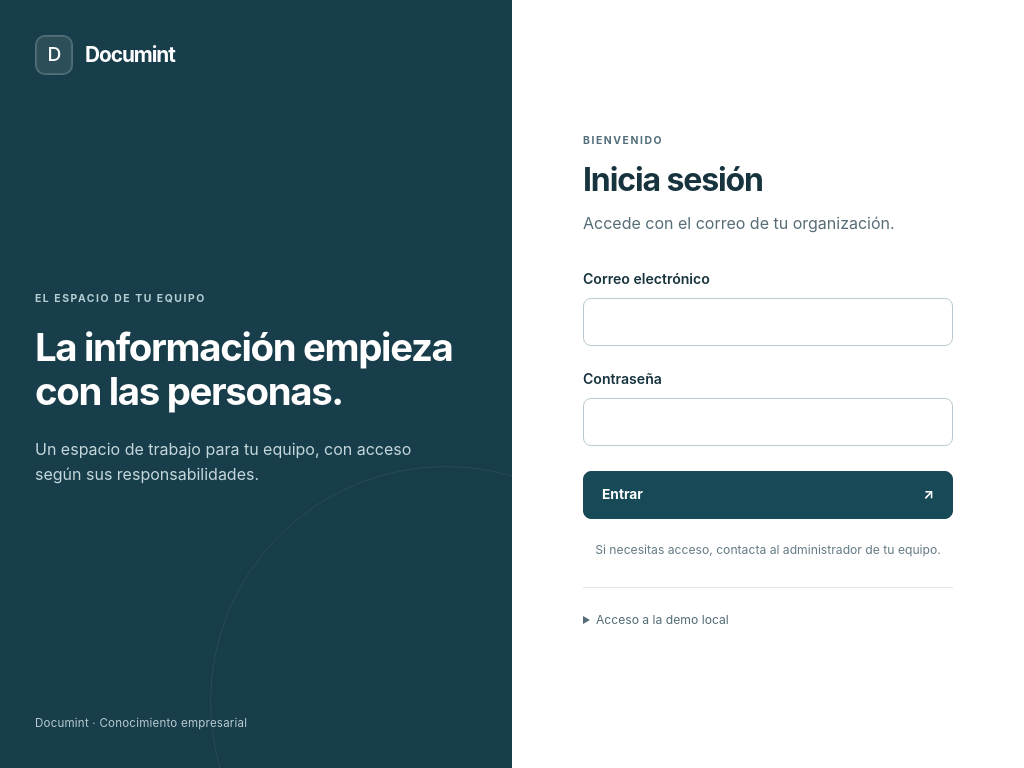
Scenario: redirects a protected route to login, submits credentials and denies an employee's admin route
Check: the heading "Inicia sesión" is shown, box [583, 160, 763, 199]
Type "elena@documind.example" into the field labelled "Correo electrónico".
click(768, 322); type("elena@documind.example")  # box [583, 298, 953, 346]
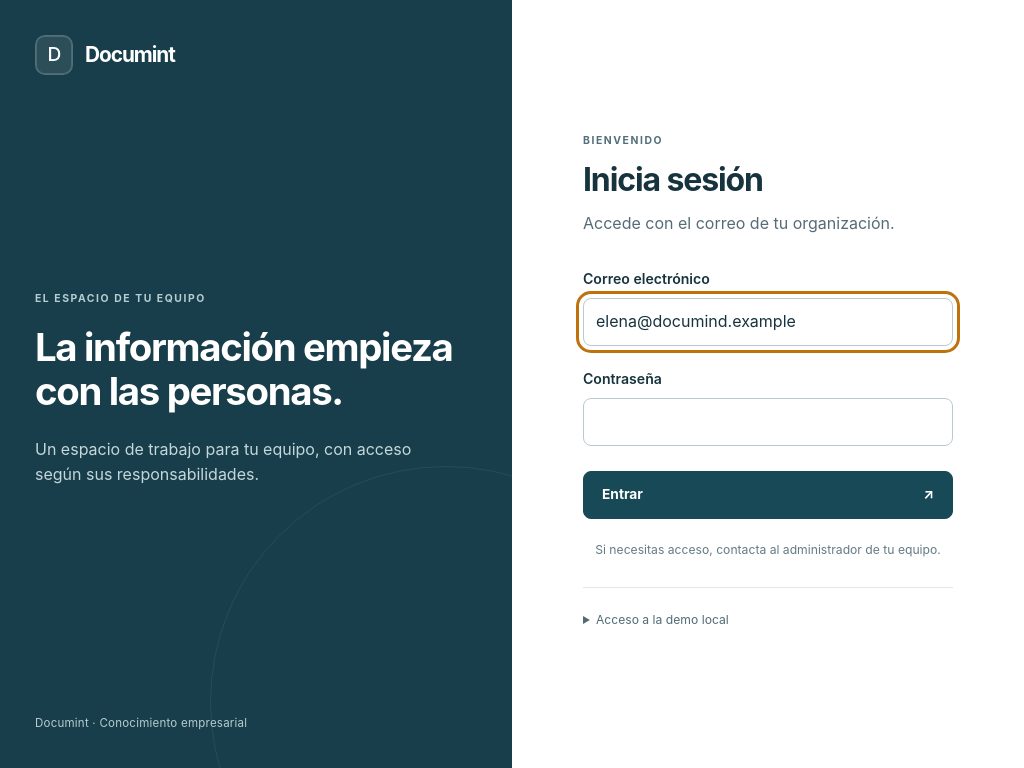
Type "test-password" into the password field labelled "Contraseña".
click(768, 422); type("test-password")  # box [583, 398, 953, 446]
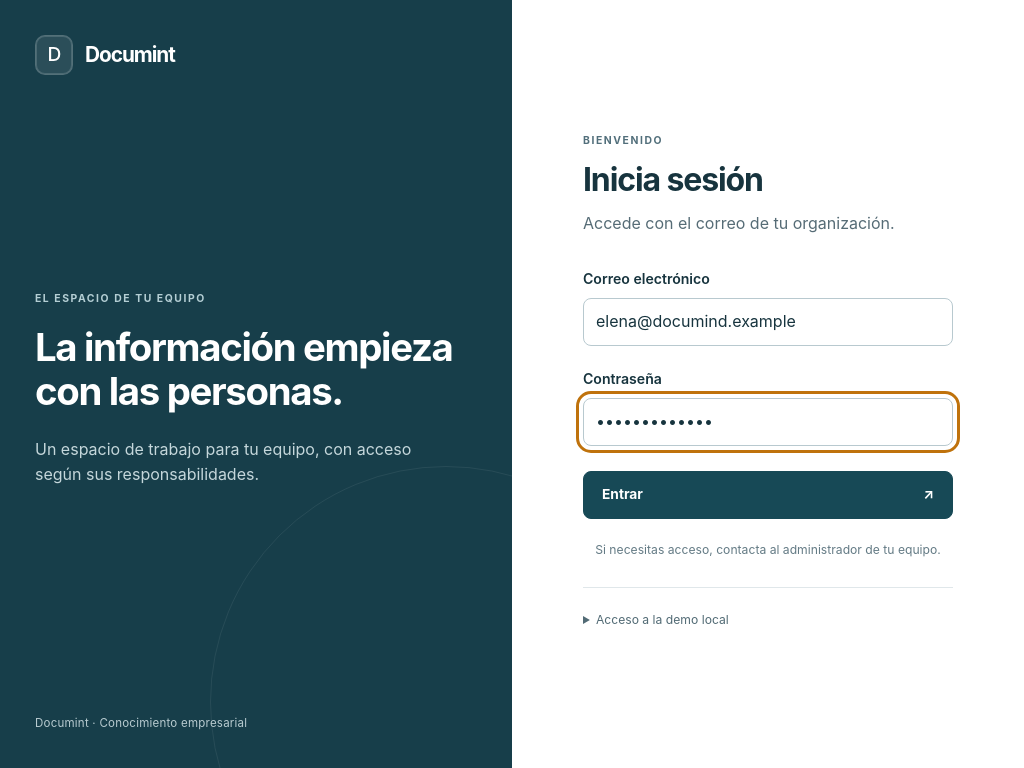
Click the button "Entrar ↗".
click(622, 494)  # box [583, 471, 953, 519]
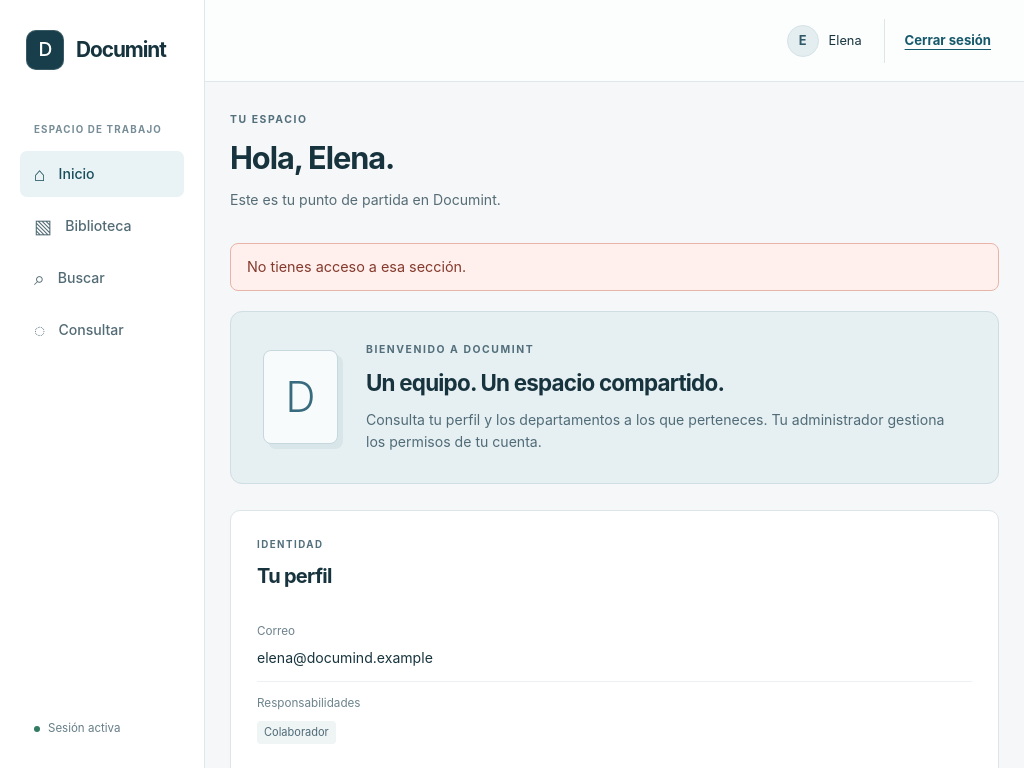
Check: the heading "Hola, Elena." is shown, box [230, 139, 394, 176]
Check: the message shows "No tienes acceso", box [247, 258, 466, 275]
